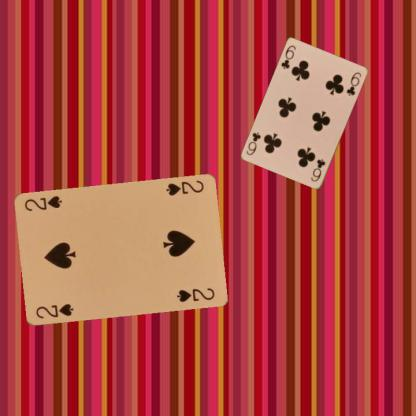2s: (163, 178, 205, 198), (33, 301, 74, 320)
6c: (278, 43, 297, 70), (308, 157, 326, 183)
